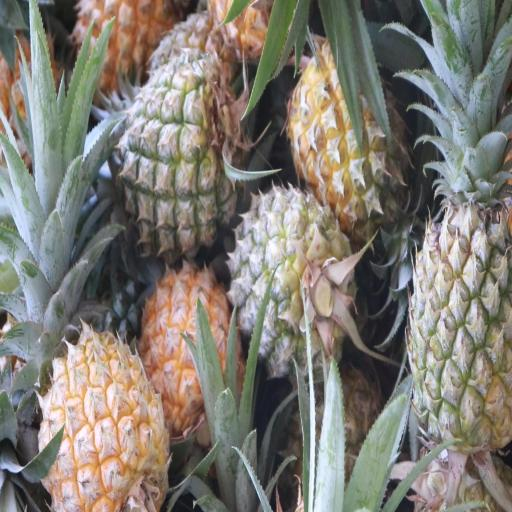------------------------------: (289, 41, 410, 229), (119, 70, 244, 246), (231, 188, 352, 366)
Pineapple - v8 v1: (39, 345, 167, 512), (146, 264, 243, 426), (78, 0, 173, 101)
